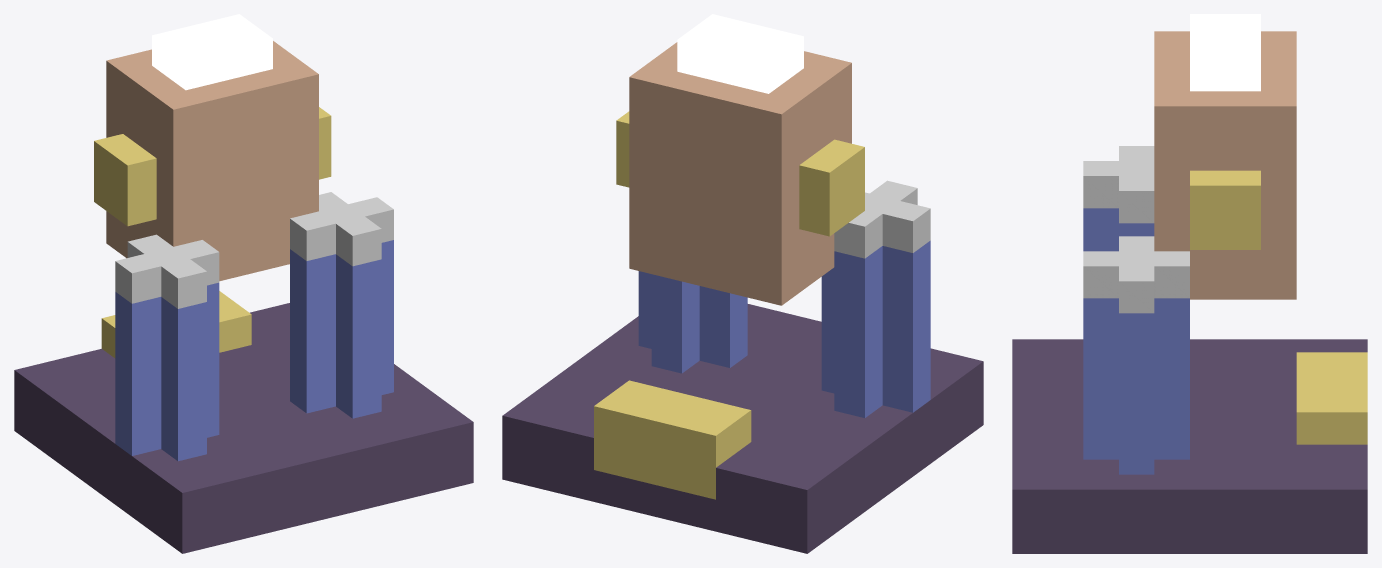
The model's file is station_regulator.glb.
3 views of the same model, side by side, from view 1: azimuth 30°, elevation 25°; view 2: azimuth 150°, elevation 25°; view 3: azimuth 270°, elevation 25° (orthographic). The views are drawn at different scales.
Parts seen in each view (by area): view 1: RegulatorBase, RegulatorCoil; view 2: RegulatorBase, RegulatorCoil; view 3: RegulatorBase, RegulatorCoil.
Part boxes in pixels (<box>): RegulatorBase: <box>14,192,473,553</box>; RegulatorCoil: <box>94,14,331,281</box>; RegulatorBase: <box>502,180,983,553</box>; RegulatorCoil: <box>616,14,864,305</box>; RegulatorBase: <box>1012,146,1367,553</box>; RegulatorCoil: <box>1154,14,1296,299</box>.
Bounding box in the file's own units: 0.1 × 0.135 × 0.1.
